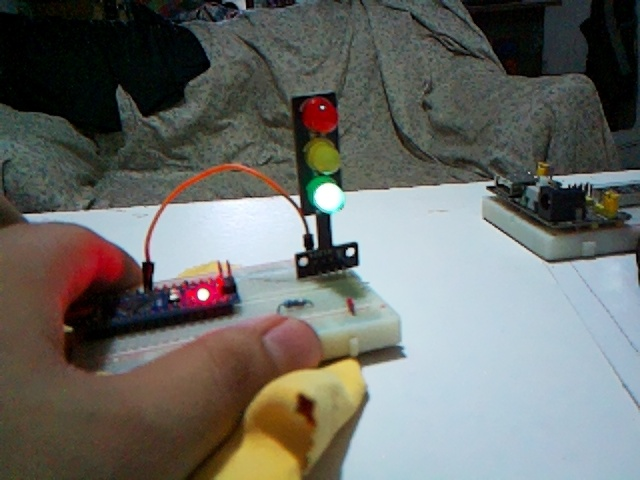traffic_light_green: (292, 92, 346, 216)
